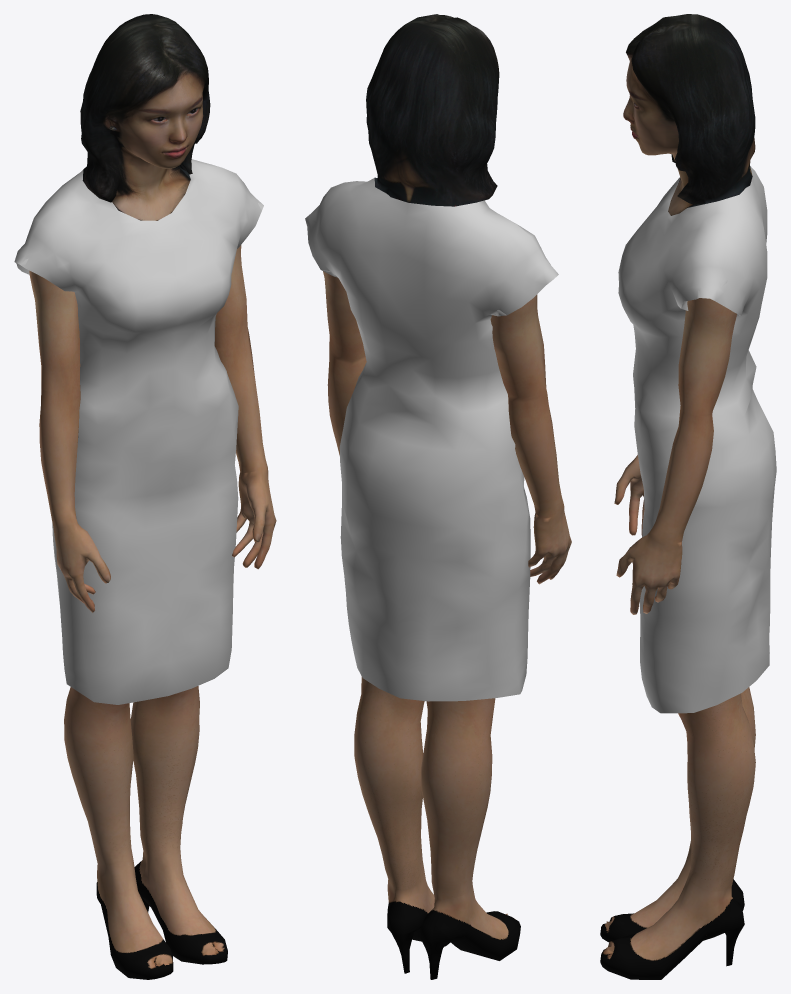
Rendered from housewife.obj.
3 renders of one model, left to right at view 1: azimuth 30°, elevation 25°; view 2: azimuth 150°, elevation 25°; view 3: azimuth 270°, elevation 25°, orthographic.
Visible parts, largest first — view 1: hhp227_cloth, hhp227_body, hhp227_head; view 2: hhp227_cloth, hhp227_body, hhp227_head; view 3: hhp227_cloth, hhp227_body, hhp227_head.
Part boxes in pixels (bbox=[...]): hhp227_cloth: bbox=[14, 159, 262, 704]; hhp227_body: bbox=[29, 245, 276, 979]; hhp227_head: bbox=[80, 14, 210, 220]; hhp227_cloth: bbox=[305, 178, 558, 701]; hhp227_body: bbox=[323, 271, 571, 979]; hhp227_head: bbox=[366, 14, 499, 206]; hhp227_cloth: bbox=[618, 166, 776, 713]; hhp227_body: bbox=[600, 298, 755, 979]; hhp227_head: bbox=[623, 14, 755, 215].
Bounding box in the file's own units: 19.29 × 69.54 × 11.85.
